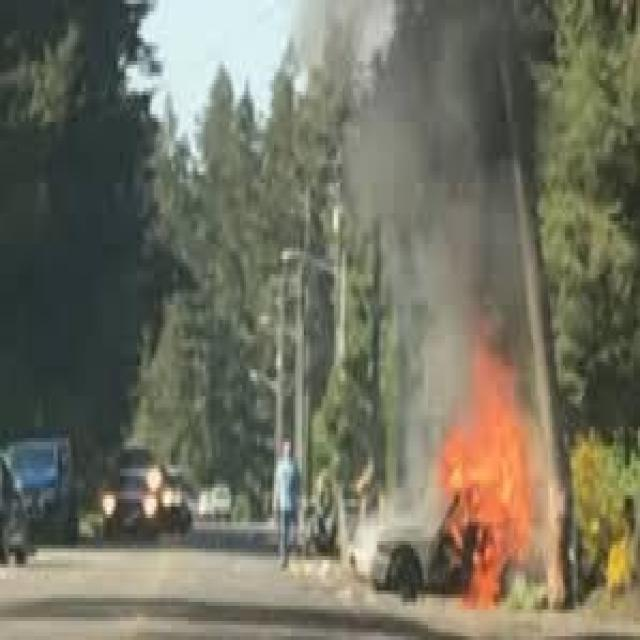fire: (385, 325, 575, 594)
smoke: (338, 2, 552, 408)
